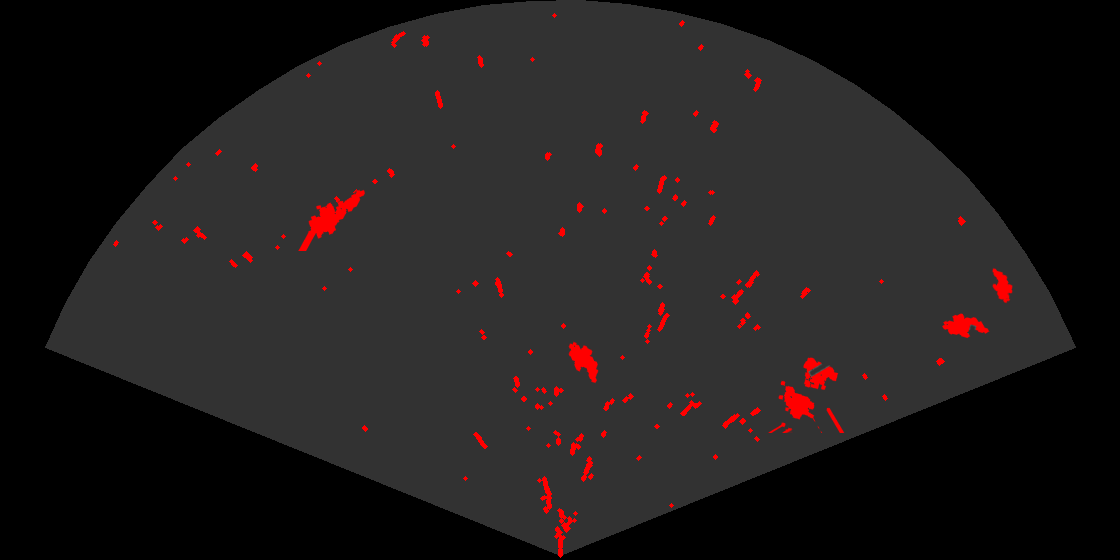AUV: (567, 340, 600, 384), (941, 312, 991, 340), (990, 266, 1014, 305)
cage: (767, 356, 846, 433)
frogman: (297, 188, 367, 251)
